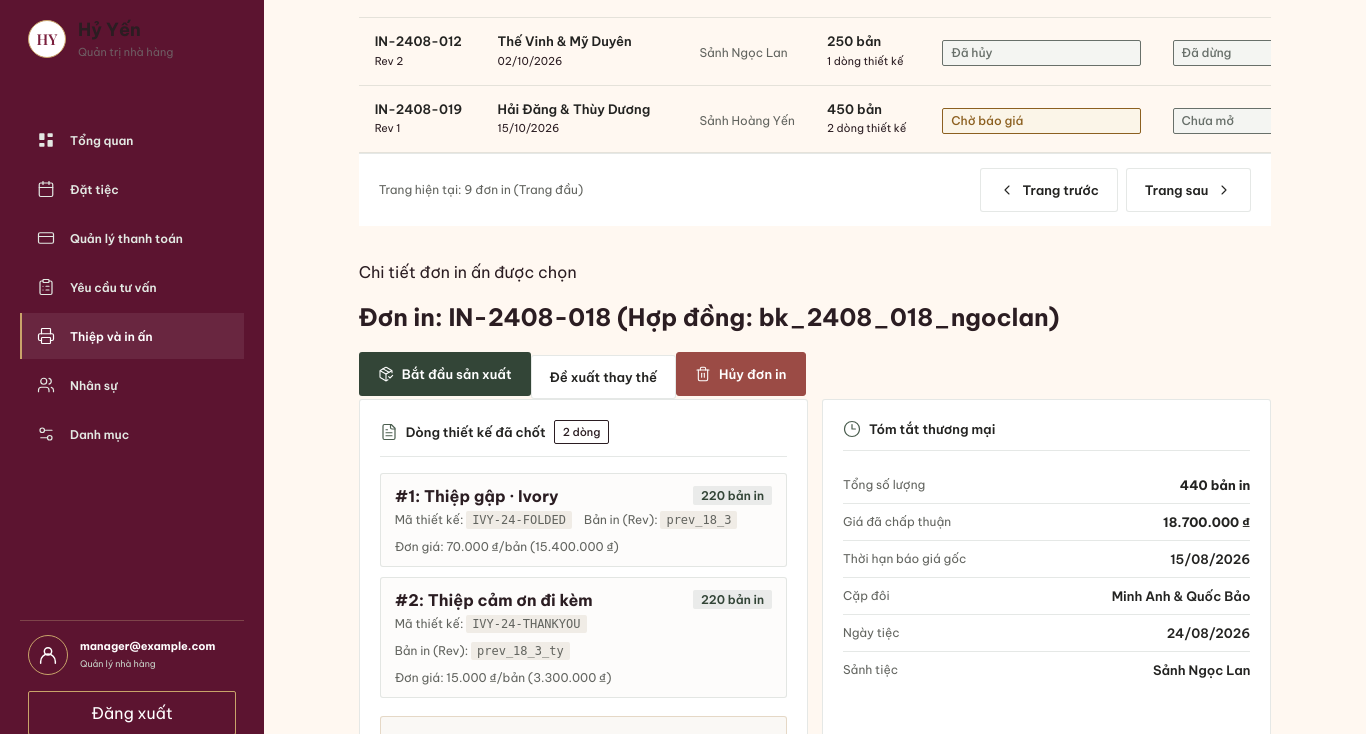
Test case: Management Print Orders Workspace (M09–M14) › allows Manager to transition an APPROVED order to IN_PRODUCTION with expectedRevision
The image size is (1366, 734).
(page scrolled)
Step 1. Click the button "Bắt đầu sản xuất" → (445, 374), box [359,352,530,396]
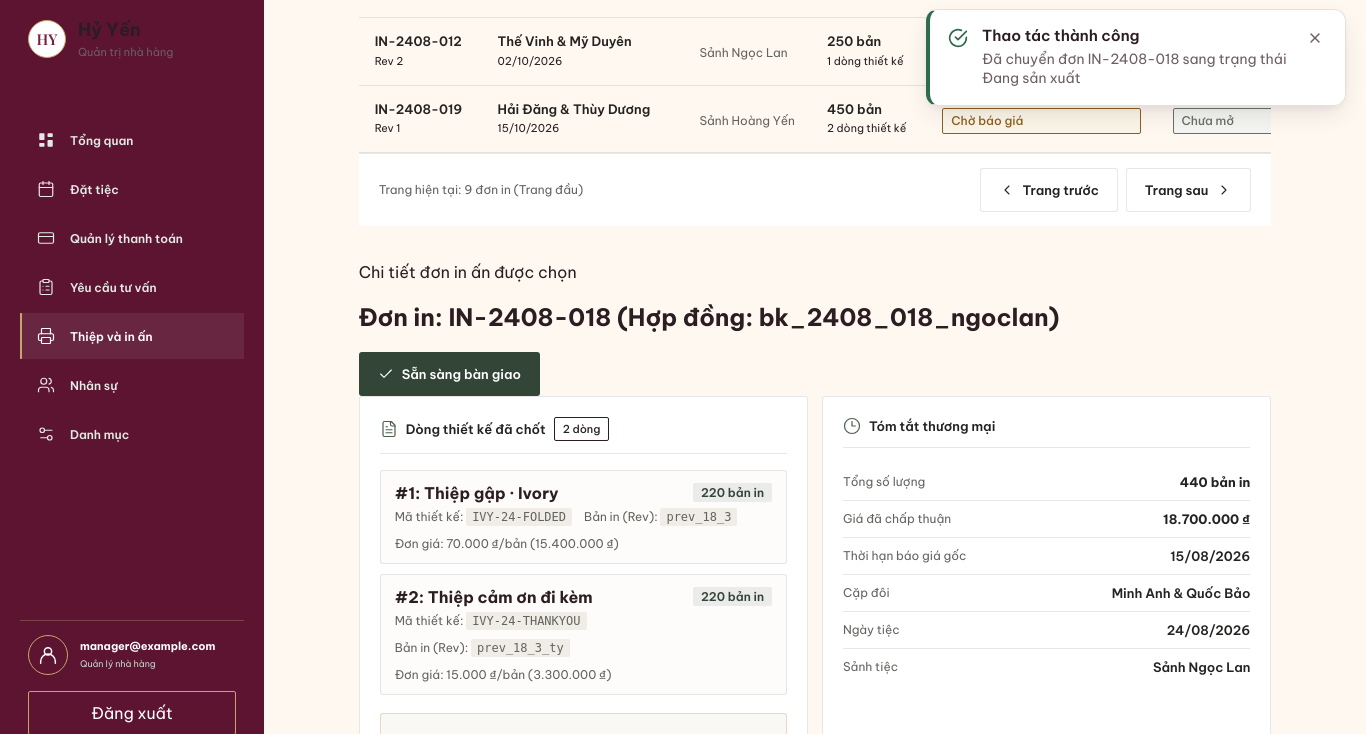
Result: the text "Đã chuyển đơn IN-2408-018 sang trạng thái Đang sản xuất" is shown at [982,50,1289,89]
